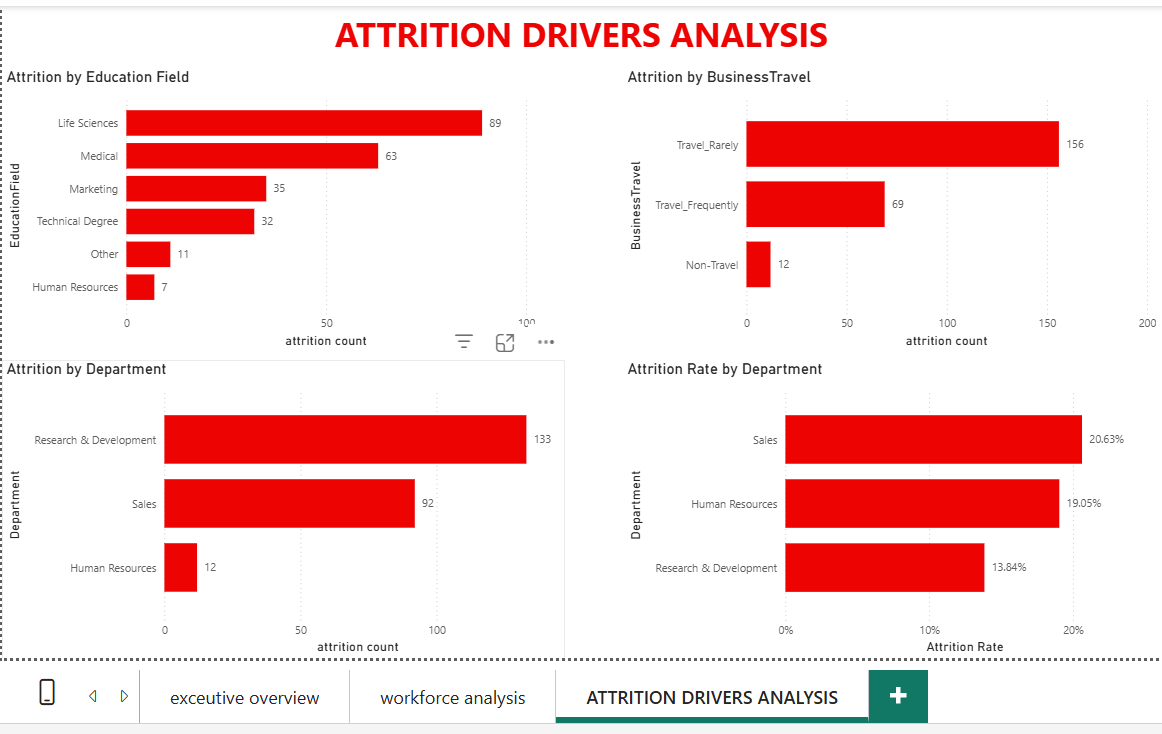

The page's visual inventory and layout, read from the dashboard file:
{"tool":"powerbi","page":{"name":"ATTRITION DRIVERS ANALYSIS","canvas":[1280,720],"ordinal":2},"visuals":[{"type":"textbox","box":[0,0,1279.4,68],"z":0},{"type":"barChart","title":"Attrition by Education Field","fields":{"Y":["hr analytics.attrition count"],"Category":["hr analytics.EducationField"]},"box":[0,68,593.4,313.7],"z":1},{"type":"barChart","title":"Attrition  by BusinessTravel","fields":{"Y":["hr analytics.attrition count"],"Category":["hr analytics.BusinessTravel"]},"box":[686,68,593.4,313.7],"z":2},{"type":"barChart","title":"Attrition by Department","fields":{"Y":["hr analytics.attrition count"],"Category":["hr analytics.Department"]},"box":[0,391.2,621.7,328.8],"z":3},{"type":"barChart","title":"Attrition Rate by Department","fields":{"Y":["hr analytics.Attrition Rate"],"Category":["hr analytics.Department"]},"box":[686,391,593,329],"z":4}]}

Visuals, with their boxes on the page's 1280x720 design canvas (x1, y1, x2, y2). These are canvas units, not pixel positions in the 1162x734 screenshot, which may show the page scaled, cropped or inside an application window:
textbox: select_region(0, 0, 1279, 68)
"Attrition by Education Field" barChart: select_region(0, 68, 593, 382)
"Attrition  by BusinessTravel" barChart: select_region(686, 68, 1279, 382)
"Attrition by Department" barChart: select_region(0, 391, 622, 720)
"Attrition Rate by Department" barChart: select_region(686, 391, 1279, 720)
